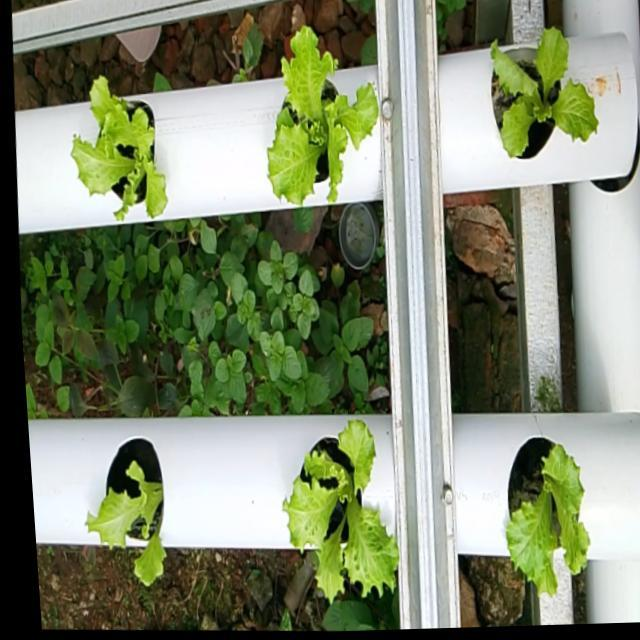Baby: (282, 422, 398, 610), (268, 30, 378, 209), (490, 32, 598, 165), (72, 77, 168, 222), (505, 442, 589, 600), (86, 438, 165, 585)
